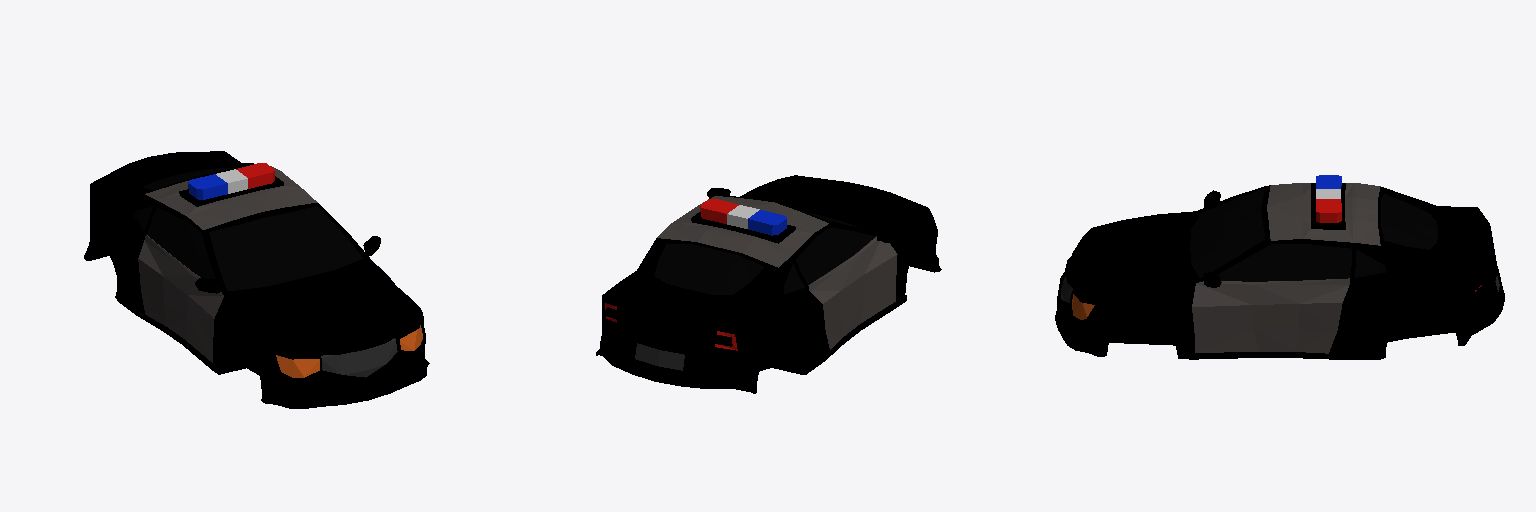
Rendered from Cop_Body.obj.
3 views of the same model, side by side, from view 1: azimuth 30°, elevation 25°; view 2: azimuth 150°, elevation 25°; view 3: azimuth 270°, elevation 25° (orthographic).
Parts seen in each view (by area): view 1: Cop; view 2: Cop; view 3: Cop.
Part boxes in pixels (x1,y1,x2,y2): Cop: (84, 151, 429, 408); Cop: (596, 175, 941, 393); Cop: (1055, 175, 1504, 359).
Bounding box in the file's own units: 1.78 × 1.13 × 3.73.